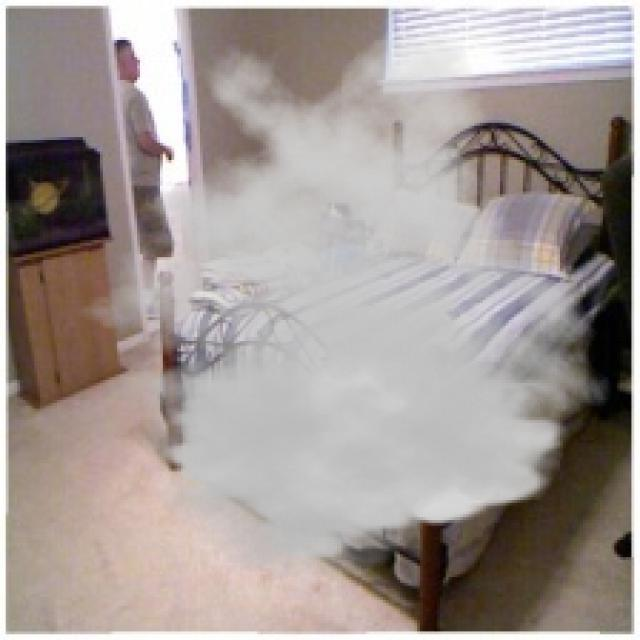Smoke: (54, 26, 620, 580)
